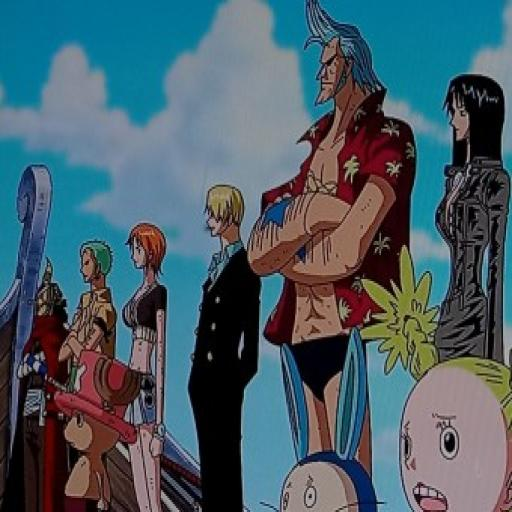Nami: (122, 215, 174, 290)
NicoRobin: (437, 68, 510, 175)
Usopp: (27, 251, 72, 332)
Zoro: (75, 227, 118, 292)
sanji: (200, 178, 250, 246)
